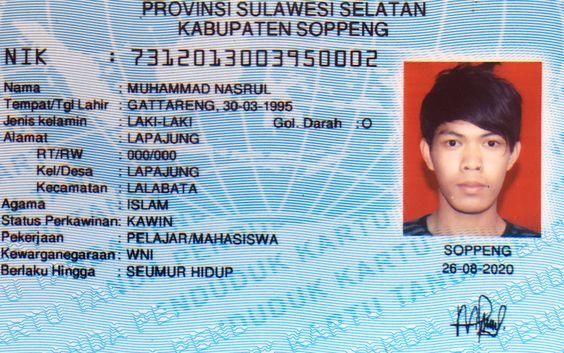ID-card: (3, 0, 561, 353)
